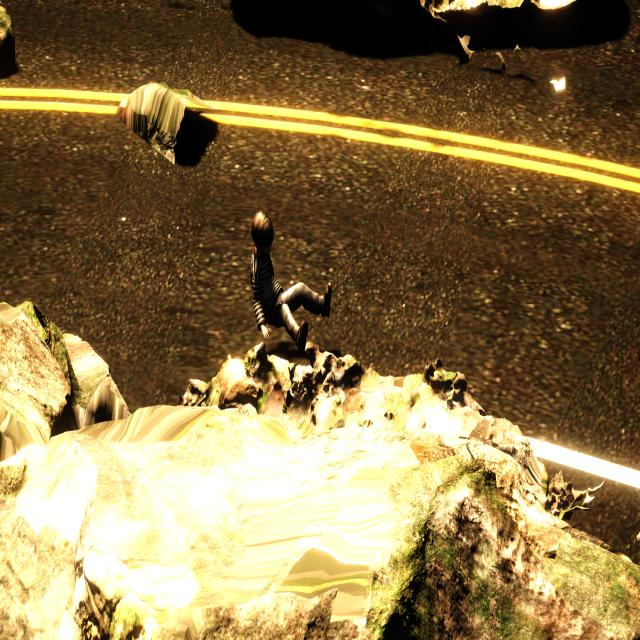Human: (243, 208, 334, 352)
